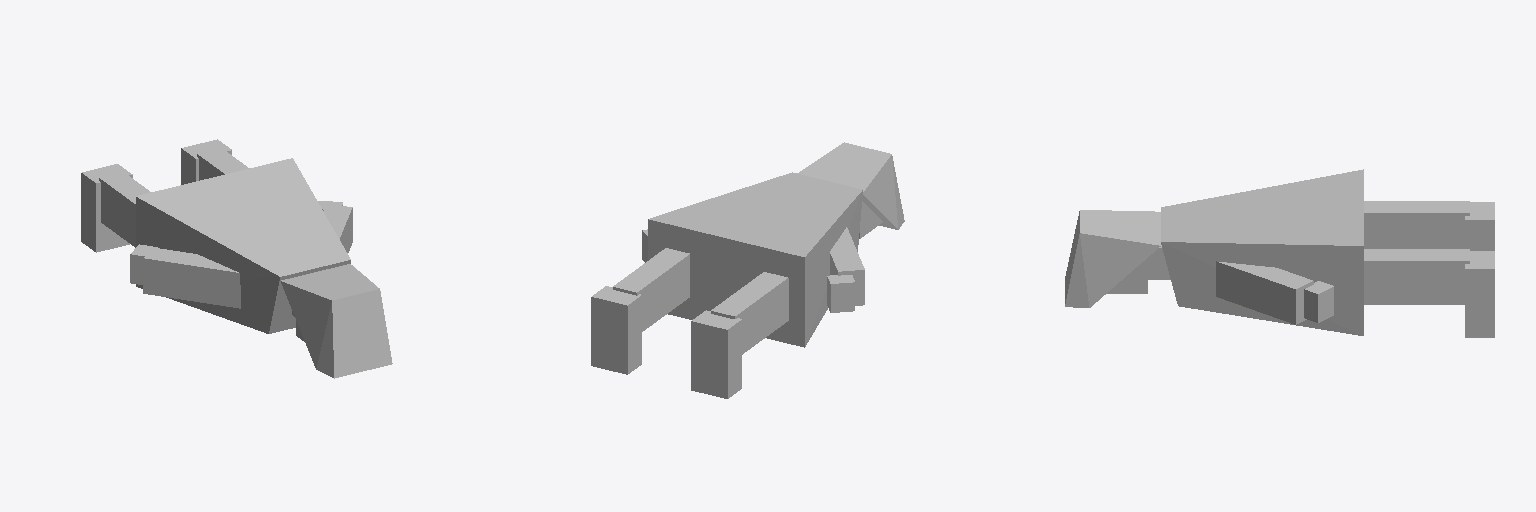
File: PlayerFemale.obj
The picture shows the model from 3 angles: view 1: azimuth 30°, elevation 25°; view 2: azimuth 150°, elevation 25°; view 3: azimuth 270°, elevation 25°; orthographic projection.
Visible parts, largest first — view 1: Cube, Cube.010, Cube.006, Cube.001, Cube.004, Cube.002, Cube.005, Cube.007, Cube.011; view 2: Cube, Cube.010, Cube.004, Cube.005, Cube.002, Cube.001, Cube.006, Cube.011; view 3: Cube, Cube.010, Cube.002, Cube.001, Cube.007, Cube.005, Cube.004, Cube.012, Cube.009, Cube.008.
Boxes of the visible parts, box(x1,y1,x2,y2) form: Cube: box(136, 158, 350, 333); Cube.010: box(281, 264, 392, 378); Cube.006: box(143, 247, 240, 308); Cube.001: box(99, 172, 150, 247); Cube.004: box(81, 164, 132, 252); Cube.002: box(197, 148, 249, 180); Cube.005: box(181, 139, 231, 184); Cube.007: box(323, 205, 352, 252); Cube.011: box(130, 244, 157, 284); Cube: box(648, 172, 862, 347); Cube.010: box(797, 142, 904, 229); Cube.004: box(691, 310, 741, 398); Cube.005: box(591, 286, 641, 374); Cube.002: box(613, 248, 689, 331); Cube.001: box(711, 272, 788, 354); Cube.006: box(830, 227, 864, 305); Cube.011: box(827, 275, 854, 312); Cube: box(1161, 169, 1363, 335); Cube.010: box(1065, 210, 1160, 307); Cube.002: box(1364, 249, 1469, 304); Cube.001: box(1364, 201, 1469, 248); Cube.007: box(1216, 261, 1313, 324); Cube.005: box(1465, 251, 1494, 337); Cube.004: box(1465, 202, 1494, 250); Cube.012: box(1304, 281, 1333, 322); Cube.009: box(1107, 258, 1147, 293); Cube.008: box(1148, 245, 1170, 279).
Bounding box in the file's own units: 1.77 × 0.7644 × 3.09.